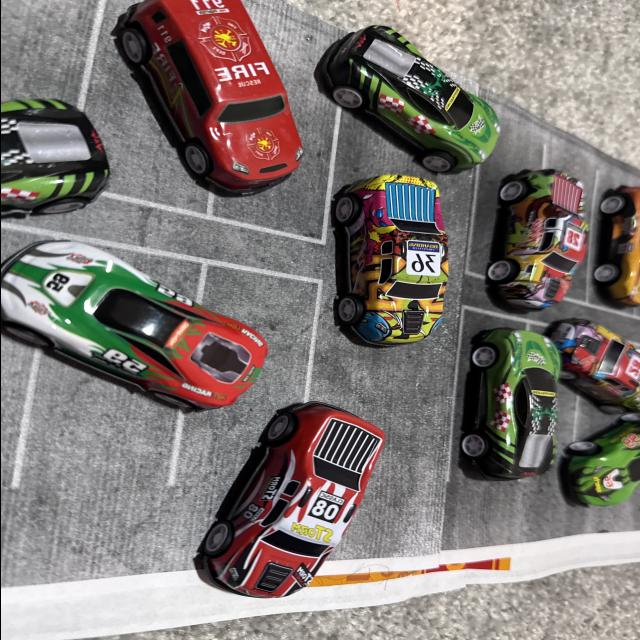Car: (0, 220, 271, 402), (173, 405, 409, 576), (314, 142, 478, 350), (1, 3, 164, 210), (336, 18, 514, 174), (163, 21, 313, 190), (450, 318, 562, 510), (476, 148, 598, 298), (550, 297, 640, 434), (535, 386, 640, 497), (572, 175, 640, 306)
